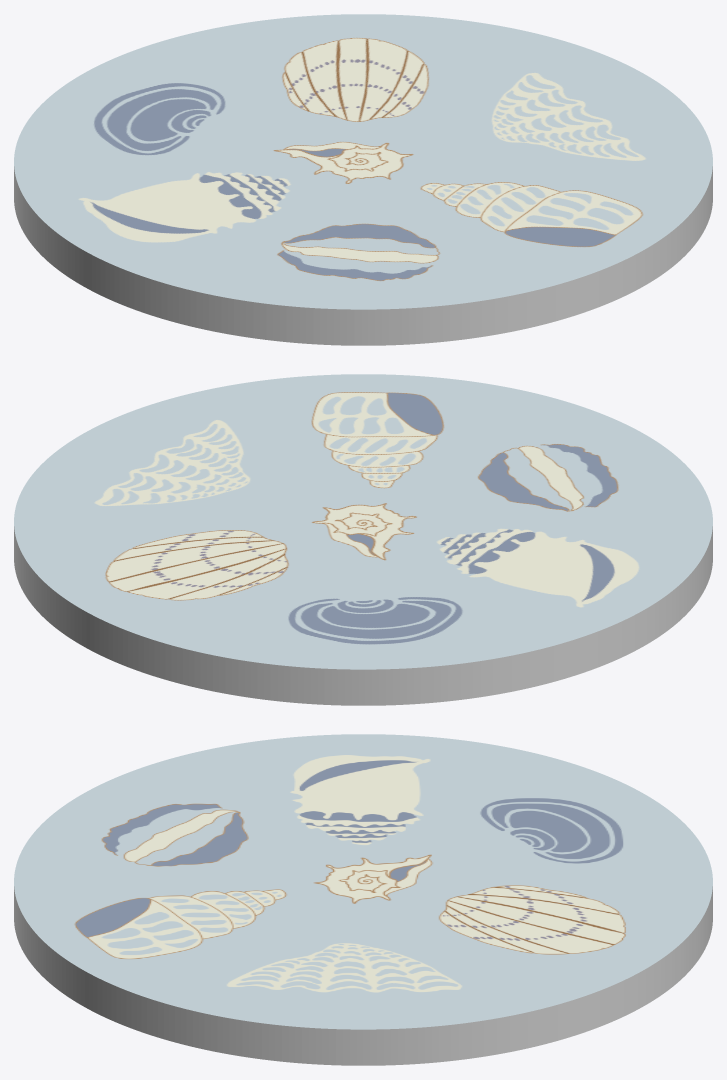
File: snackor2.glb
3 renders of one model, top to bottom at view 1: azimuth 30°, elevation 25°; view 2: azimuth 150°, elevation 25°; view 3: azimuth 270°, elevation 25°, orthographic.
Parts seen in each view (by area): view 1: Cylinder; view 2: Cylinder; view 3: Cylinder.
Part boxes in pixels (left/top/right/bottom): Cylinder: left=14, top=14, right=712, bottom=345; Cylinder: left=14, top=374, right=712, bottom=705; Cylinder: left=14, top=734, right=712, bottom=1065.
Size of what is drawn, in the model's own units: 3.5 by 0.2 by 3.5.
2 materials, 1 textured.
